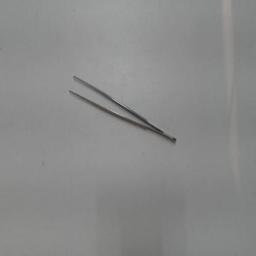Gillies Toothed Dissector: (66, 65, 180, 147)
